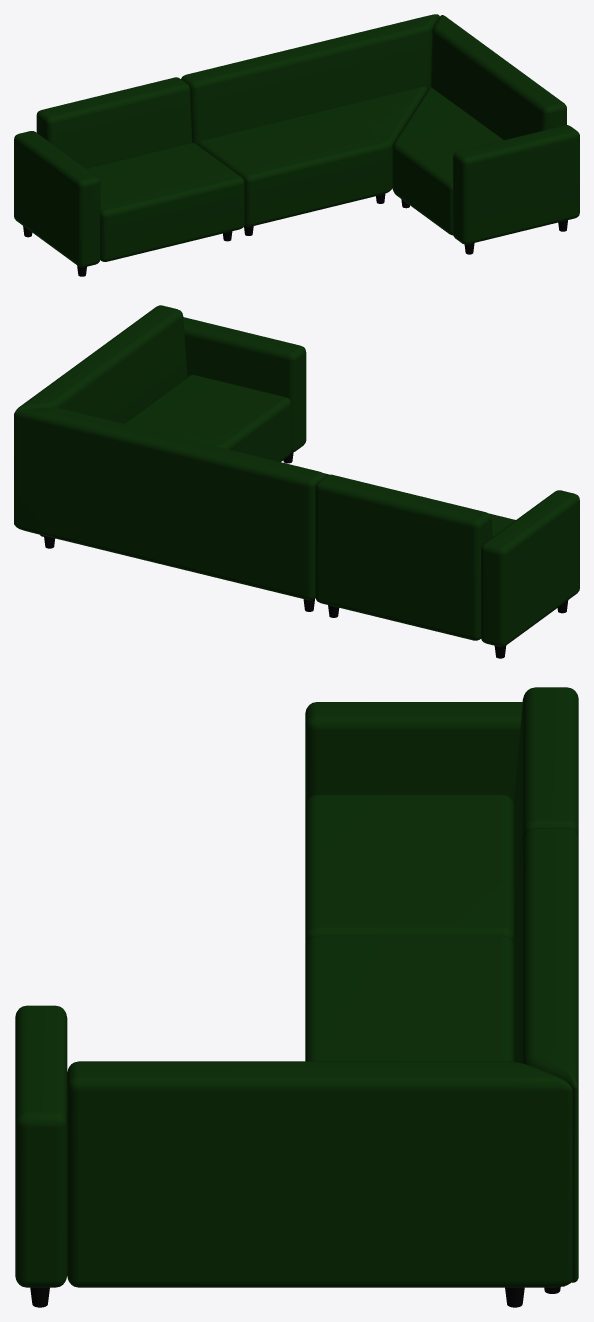
Rendered from couch.fbx.
The picture shows the model from 3 angles, top to bottom: view 1: azimuth 30°, elevation 25°; view 2: azimuth 150°, elevation 25°; view 3: azimuth 270°, elevation 25°; orthographic projection. The views are drawn at different scales.
Parts seen in each view (by area): view 1: couch; view 2: couch; view 3: couch.
Boxes of the visible parts, x1=… form: couch: x1=14, y1=14, x2=579, y2=276; couch: x1=14, y1=305, x2=579, y2=658; couch: x1=15, y1=687, x2=578, y2=1307.
Size of the model in its own units: 272 by 71.48 by 155.
